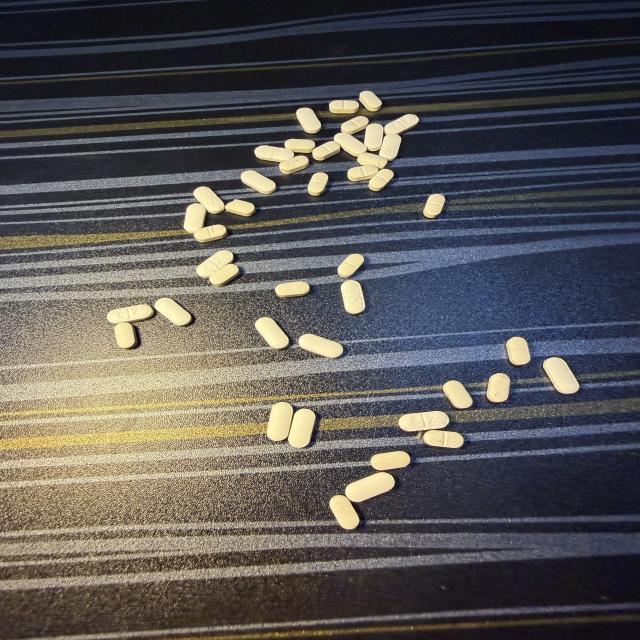pill: (345, 472, 394, 502), (543, 357, 579, 394), (288, 409, 316, 448), (255, 317, 289, 349), (299, 334, 343, 358), (197, 250, 234, 278), (155, 298, 192, 326), (267, 402, 293, 441), (399, 411, 449, 431), (330, 495, 359, 529), (107, 304, 153, 324), (241, 170, 276, 194), (341, 280, 365, 314), (443, 381, 472, 409), (194, 187, 224, 213), (371, 451, 410, 470), (334, 133, 366, 156), (506, 337, 530, 366), (385, 114, 419, 134), (423, 431, 463, 448), (487, 373, 510, 402), (209, 264, 239, 286), (184, 204, 206, 233), (296, 108, 321, 133), (338, 254, 364, 278), (255, 146, 293, 162), (115, 322, 137, 349), (379, 134, 401, 160), (194, 225, 227, 242), (275, 282, 310, 298), (312, 141, 340, 160), (369, 169, 393, 191), (279, 156, 308, 174), (424, 194, 445, 218), (357, 152, 388, 168), (365, 124, 383, 151), (341, 116, 368, 134), (348, 165, 378, 181), (225, 200, 255, 216), (359, 91, 382, 111), (308, 173, 328, 196), (285, 139, 315, 153), (329, 100, 359, 113)
